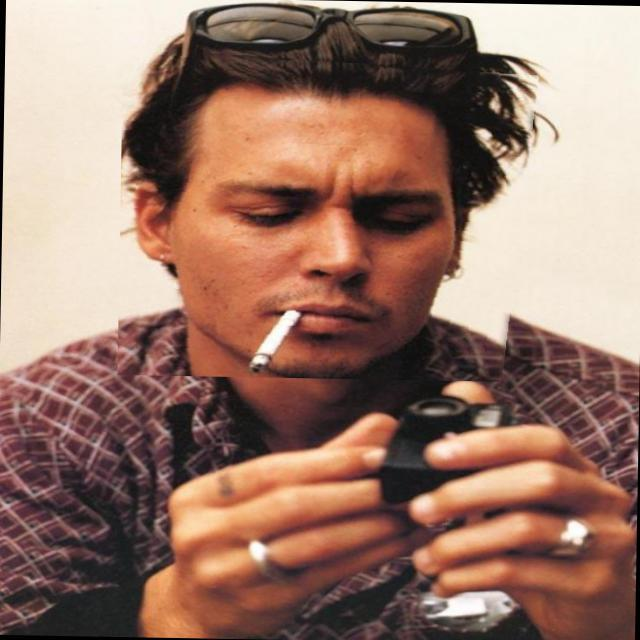cigarette: (249, 285, 335, 382)
